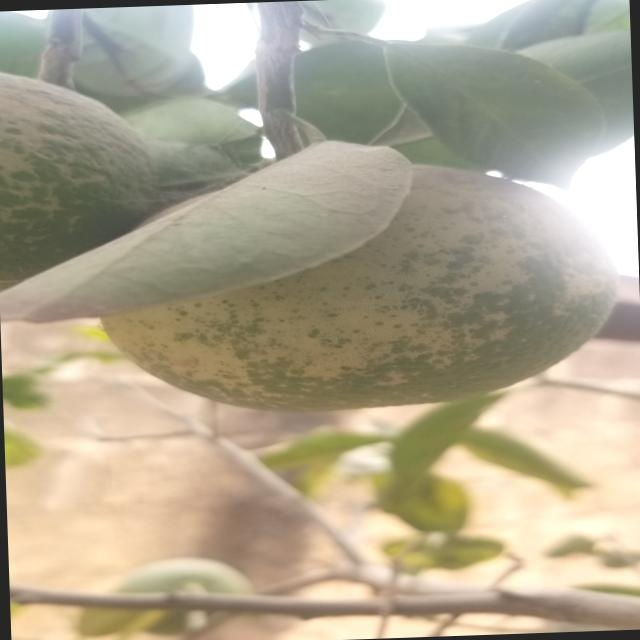agrume: (103, 151, 617, 413), (0, 71, 168, 294)
